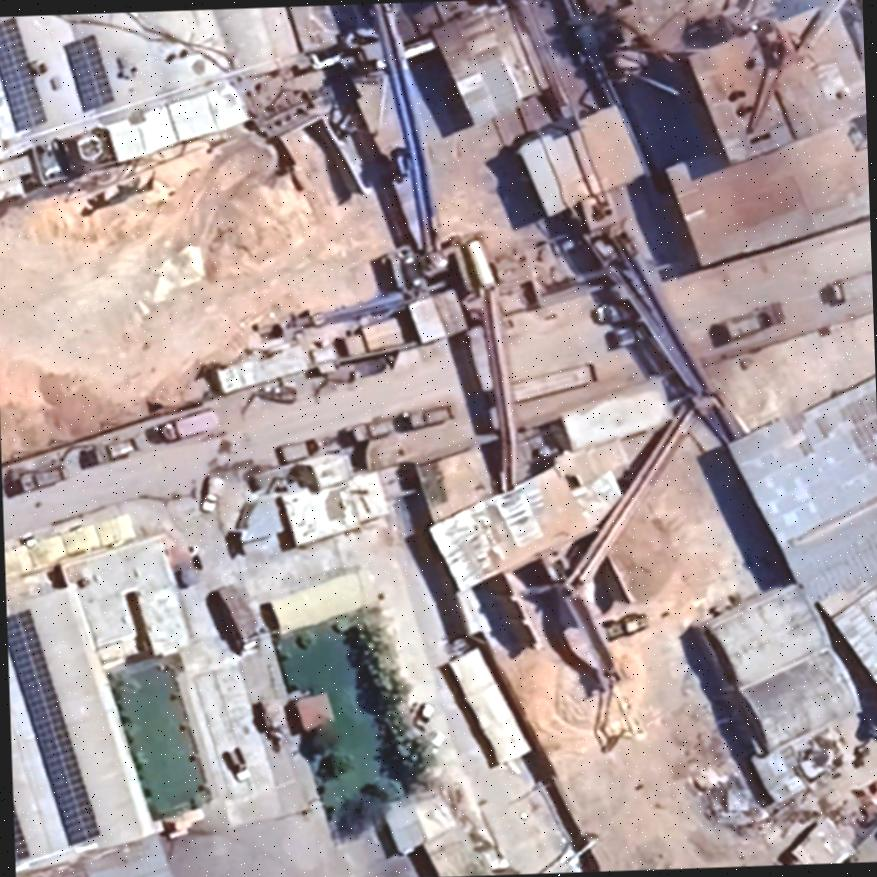Solarpanel: (6, 604, 103, 853), (56, 25, 120, 119), (0, 16, 48, 136), (13, 799, 32, 862)
